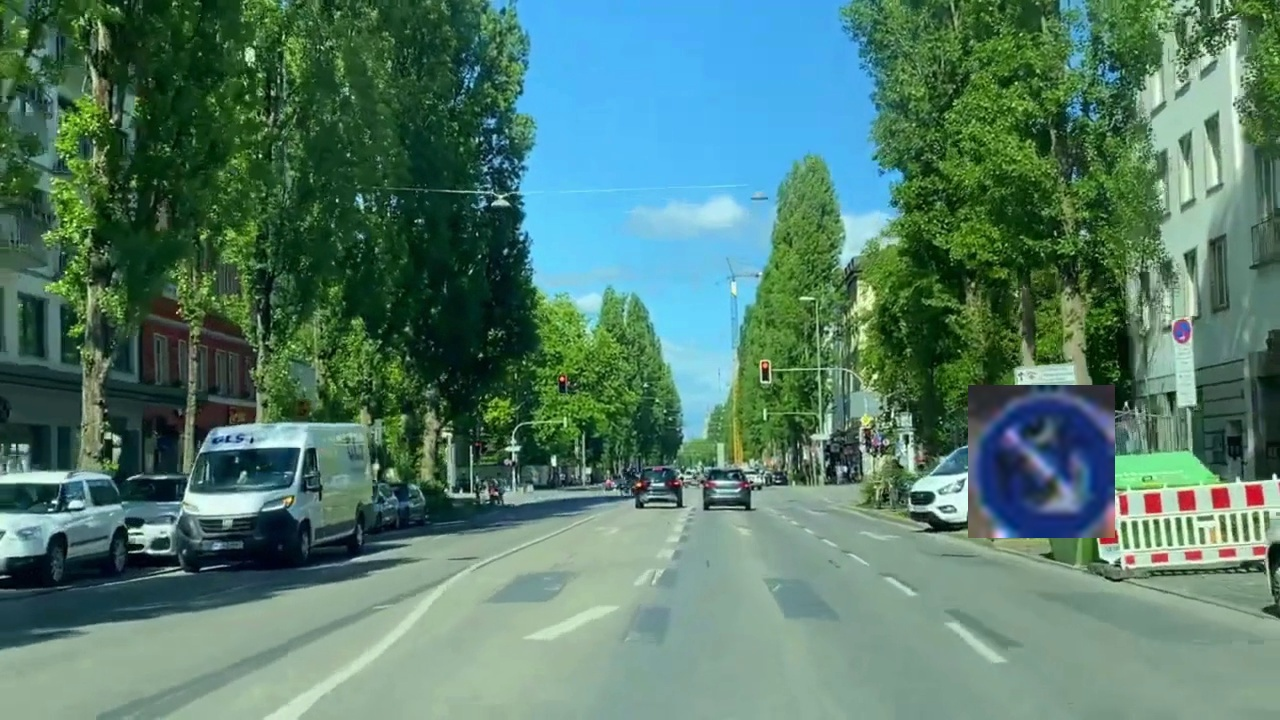Keep right: (968, 385, 1115, 538)
